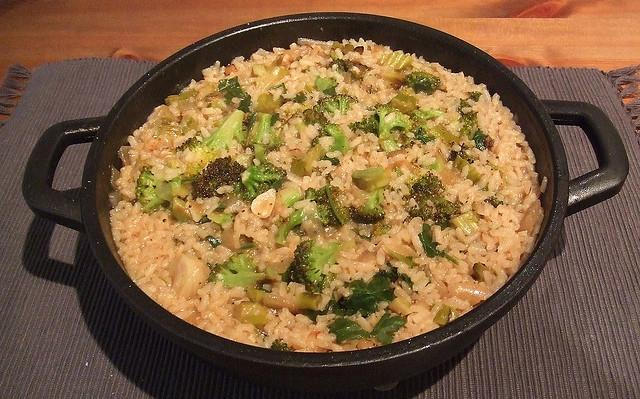broccoli: (332, 262, 413, 318), (288, 238, 340, 294), (206, 254, 282, 292), (192, 154, 247, 200), (201, 110, 249, 162), (274, 202, 331, 245), (374, 102, 414, 152), (240, 162, 287, 204), (242, 112, 286, 156), (409, 194, 460, 231), (402, 166, 446, 204), (136, 165, 168, 216), (310, 120, 352, 156), (349, 188, 386, 224), (217, 75, 252, 113), (290, 144, 328, 176), (352, 166, 398, 192), (234, 301, 273, 326), (452, 154, 482, 186), (409, 109, 444, 134), (404, 71, 440, 95), (155, 179, 189, 202), (391, 92, 416, 116), (294, 292, 323, 312), (458, 110, 478, 137), (434, 304, 458, 325), (302, 108, 328, 127), (334, 94, 356, 115), (315, 76, 336, 91)
